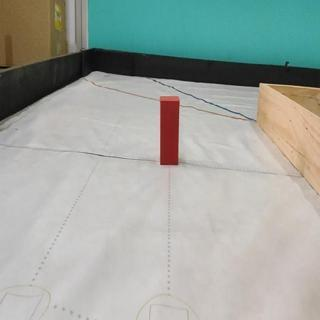redbox: (159, 95, 181, 164)
